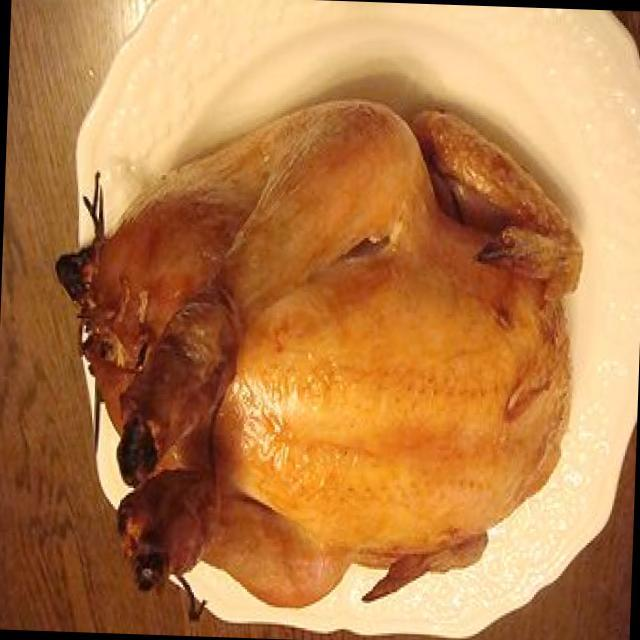Chicken: (52, 72, 590, 626)
